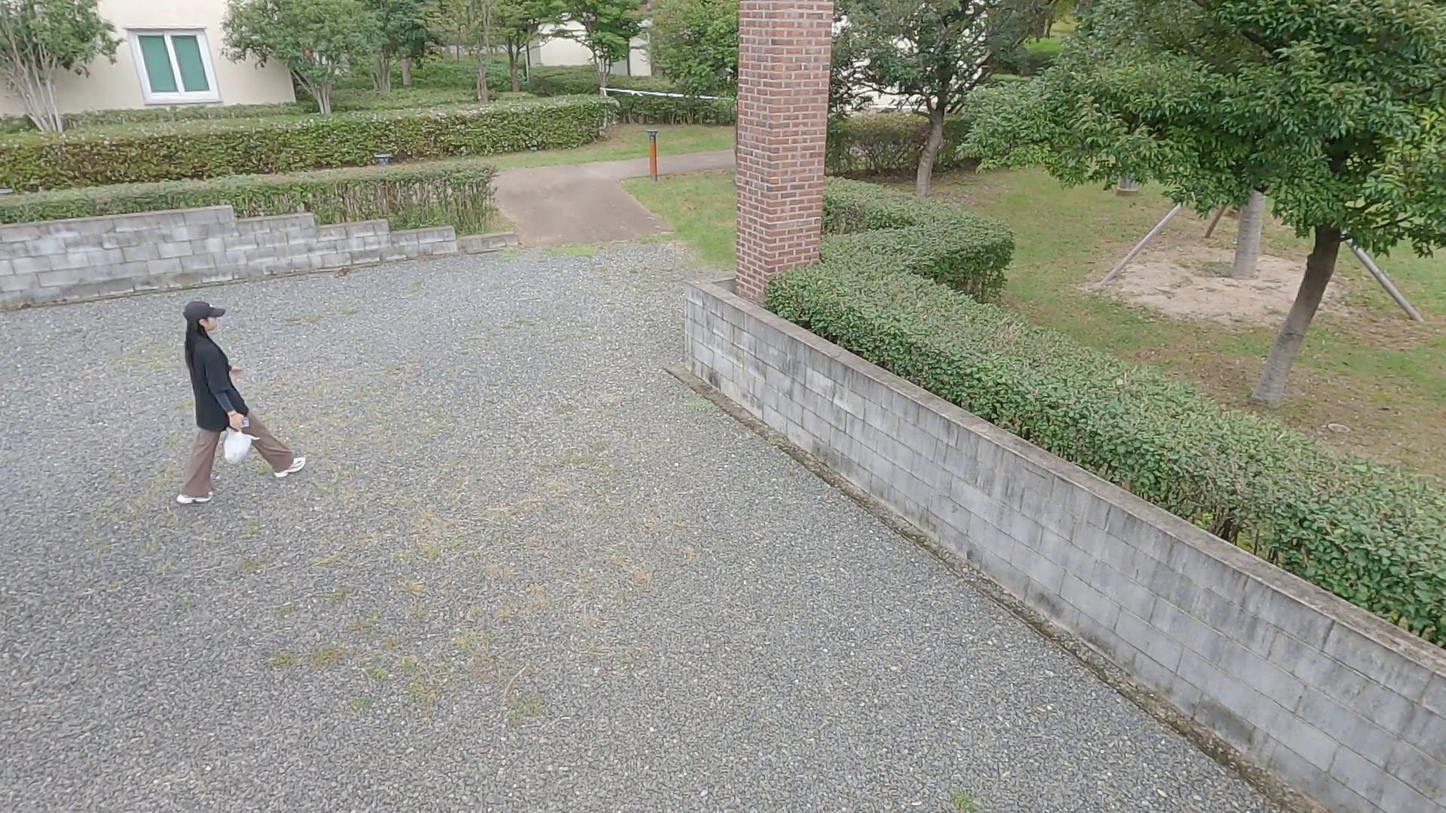trash: (160, 289, 339, 486), (164, 295, 311, 492), (166, 294, 307, 489)
